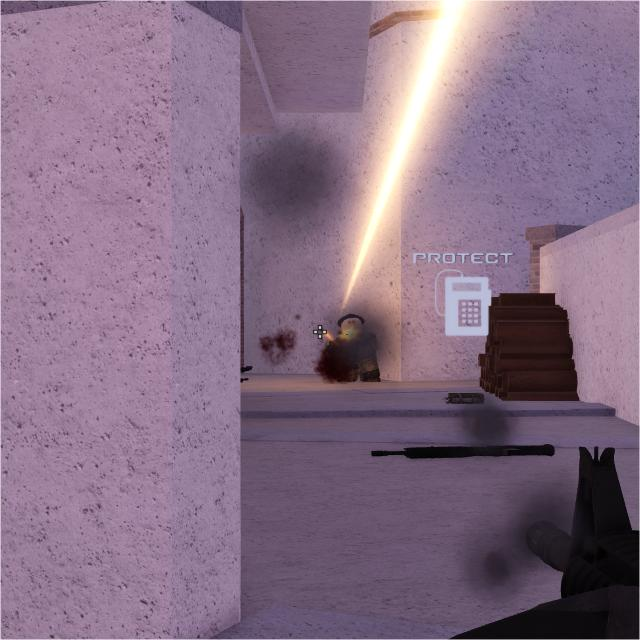Head: (338, 314, 366, 334)
Player: (316, 316, 380, 385)
